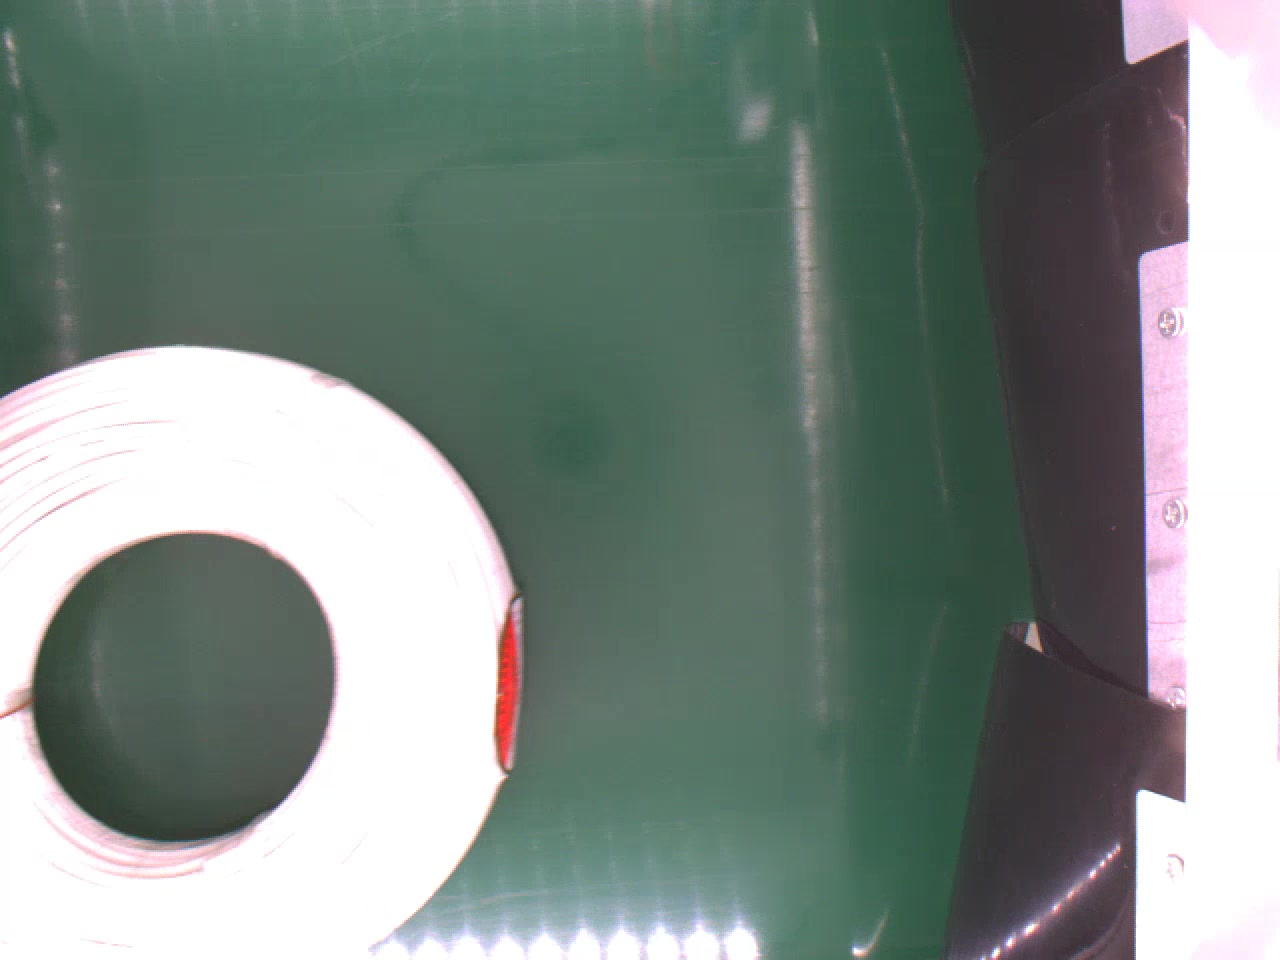white: (0, 346, 525, 960)
